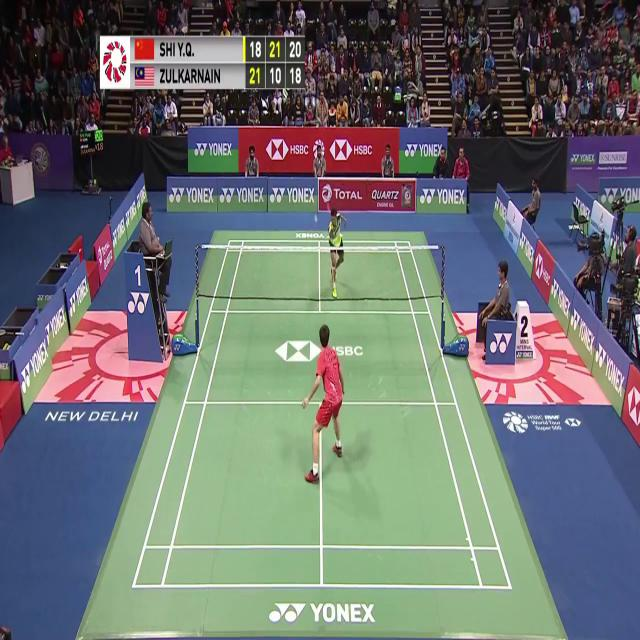Shuttlecock: (313, 211, 319, 223)
